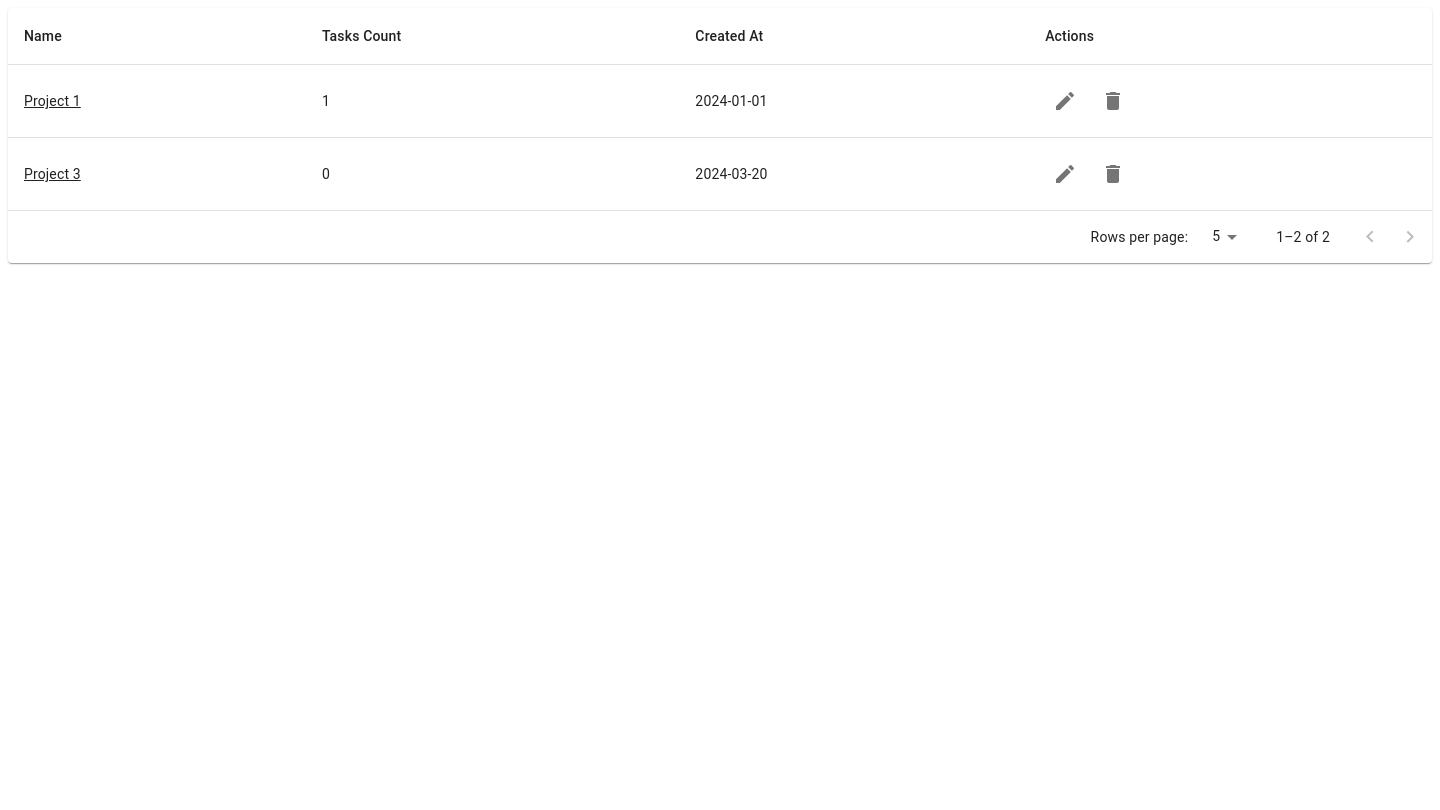
Test: ProjectsList › shows confirm dialog when delete button is clicked
The width and height of the screenshot is (1440, 810).
Click the button named "Delete project".
click(1113, 101)  # box [1093,81,1133,121]
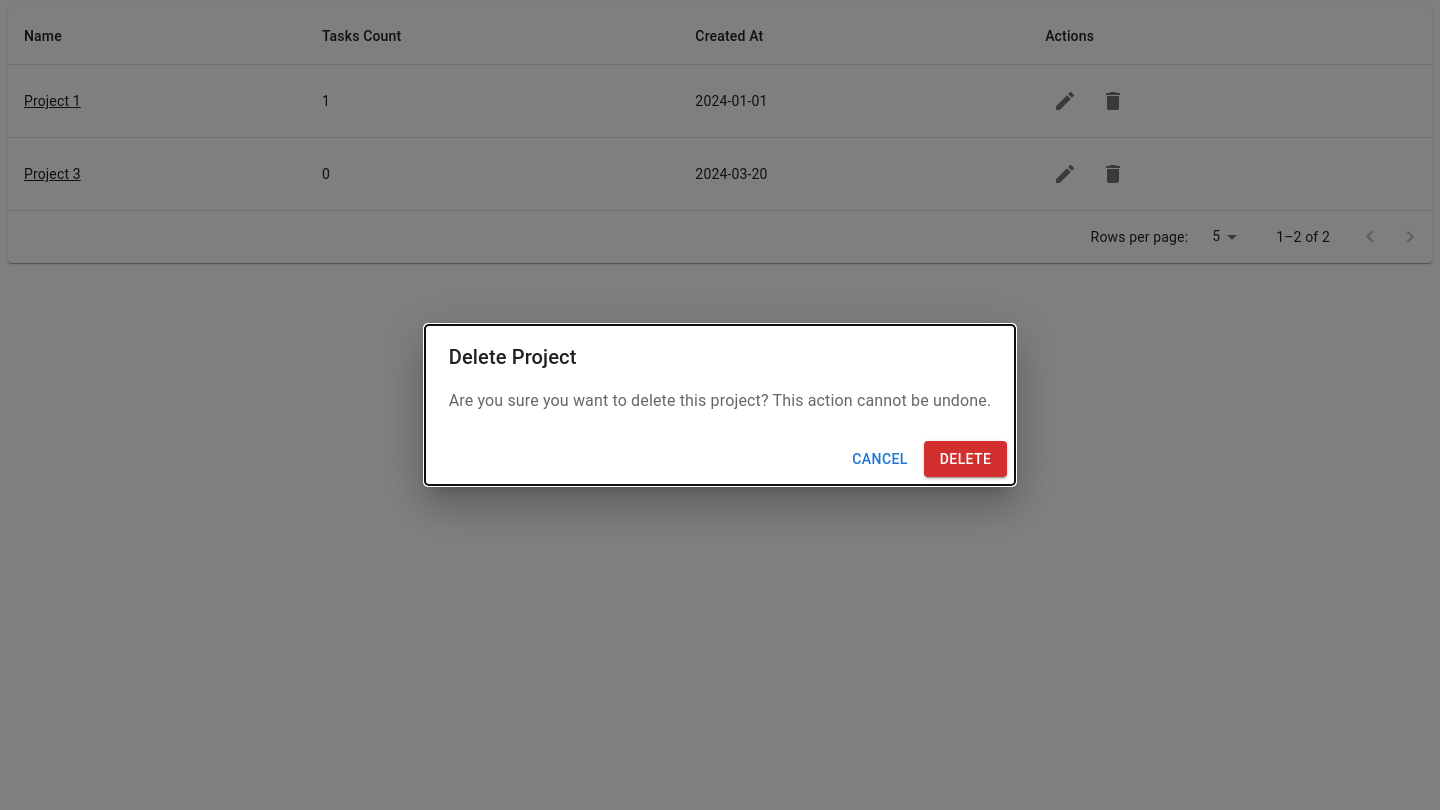
Expected: the text "Are you sure you want to delete this project? This action cannot be undone." is shown, [449,389,991,413]
